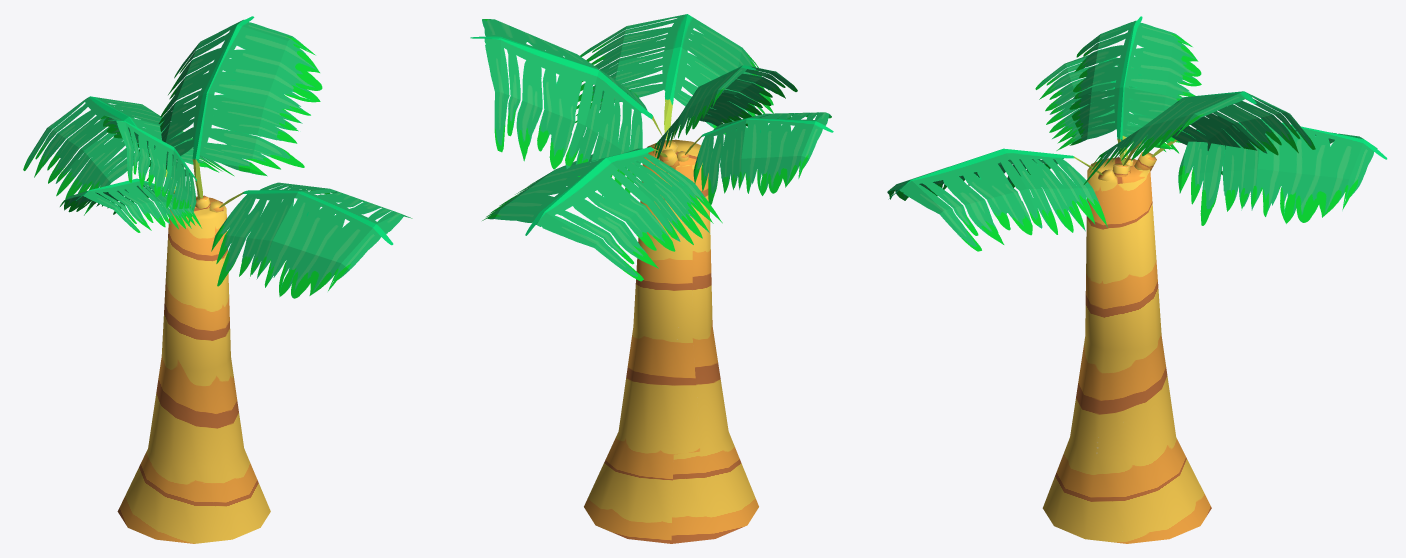
File: palmera_2.fbx
The picture shows the model from 3 angles, left to right: view 1: azimuth 30°, elevation 25°; view 2: azimuth 150°, elevation 25°; view 3: azimuth 270°, elevation 25°; orthographic projection. The views are drawn at different scales.
Visible parts, largest first — view 1: Cylinder.024; view 2: Cylinder.024; view 3: Cylinder.024.
Boxes of the visible parts, x1,y1,x2,y2 form: Cylinder.024: (23,16,412,543); Cylinder.024: (470,14,833,543); Cylinder.024: (887,16,1387,543).
Size of the model in its own units: 821 by 1120 by 1120.
